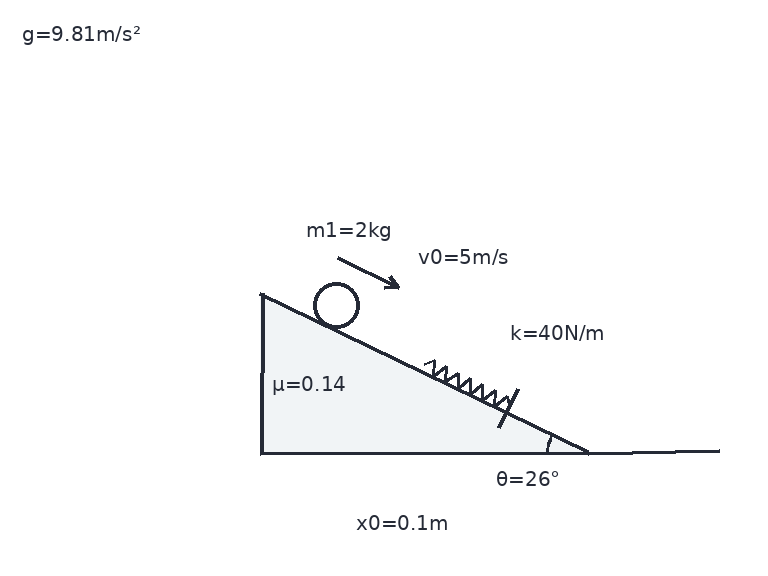ball: (311, 280, 361, 330)
ramp: (259, 292, 589, 455)
spring: (423, 358, 511, 408)
